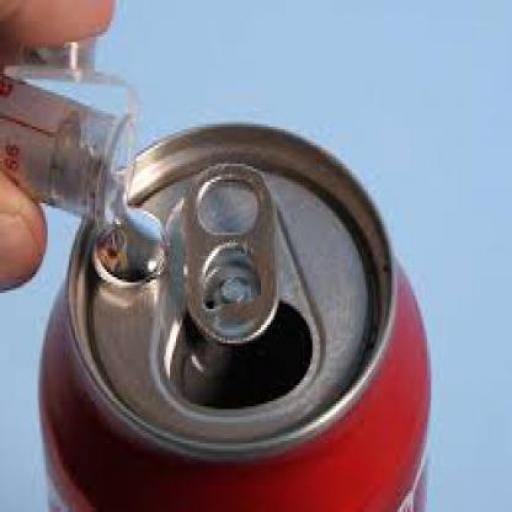metal: (36, 118, 430, 510), (182, 158, 277, 343)
